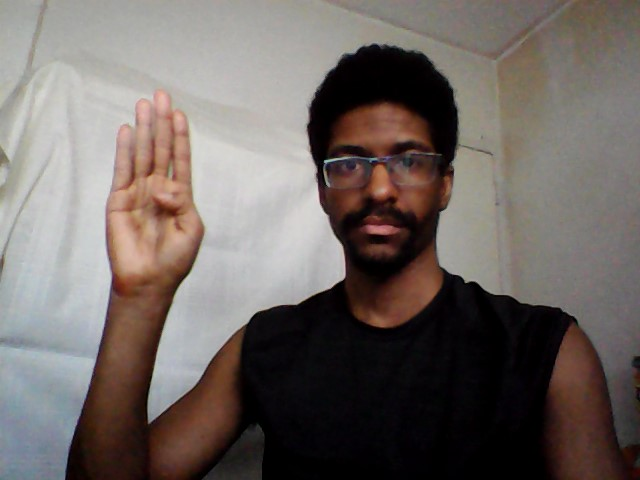b: (99, 85, 208, 295)
